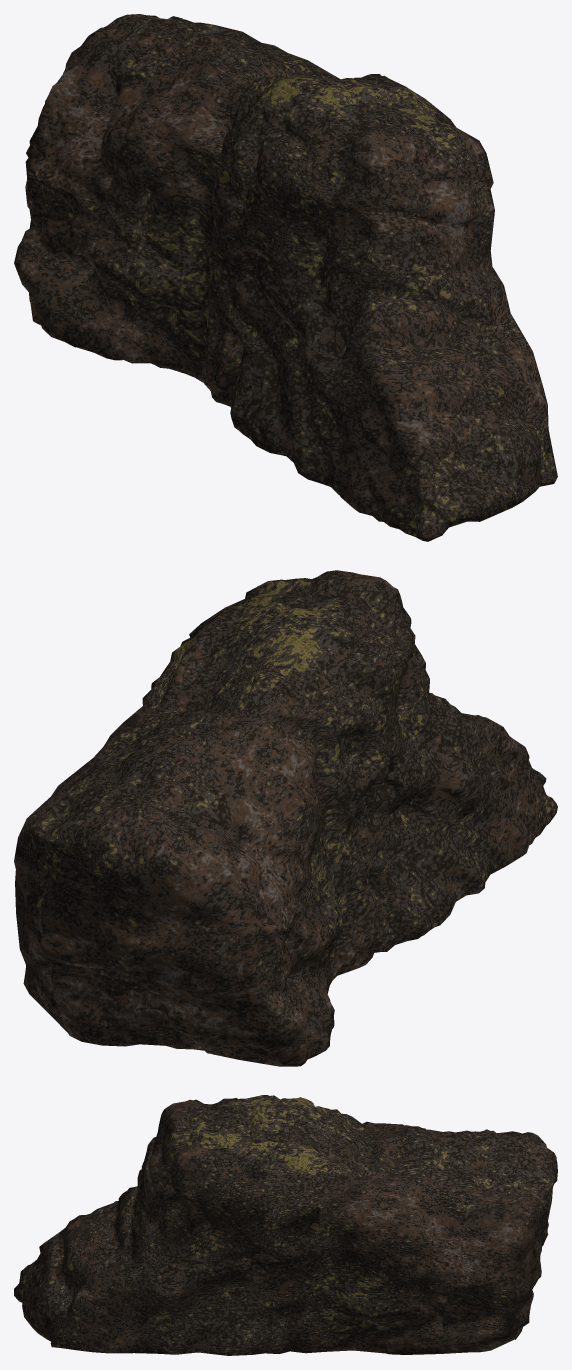
File: SM_cliff_04_brown.fbx
3 views of the same model, one above another, from view 1: azimuth 30°, elevation 25°; view 2: azimuth 150°, elevation 25°; view 3: azimuth 270°, elevation 25° (orthographic). The views are drawn at different scales.
Parts seen in each view (by area): view 1: SM_cliff_04_brown_LOD0; view 2: SM_cliff_04_brown_LOD0; view 3: SM_cliff_04_brown_LOD0.
Part boxes in pixels (x1=…): SM_cliff_04_brown_LOD0: x1=14, y1=14, x2=557, y2=541; SM_cliff_04_brown_LOD0: x1=14, y1=570, x2=557, y2=1066; SM_cliff_04_brown_LOD0: x1=14, y1=1095, x2=557, y2=1355.
Bounding box in the file's own units: 870 × 2031 × 921.
Materials: 1 (1 with a texture image).
